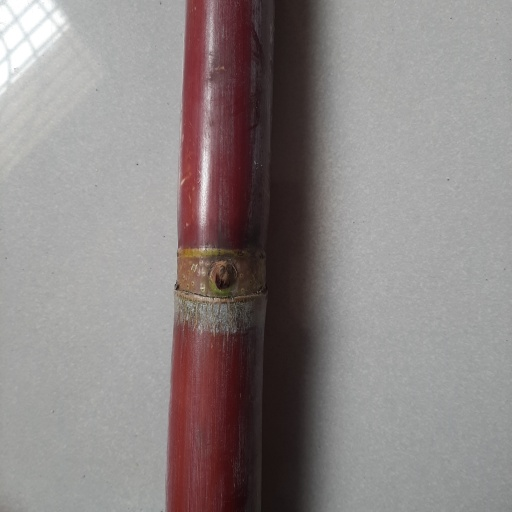Bud: (214, 261, 237, 294)
